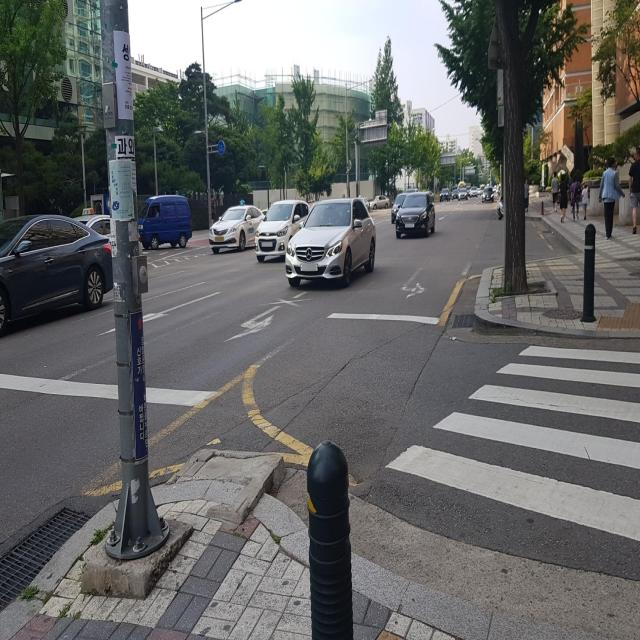횡단보도: (382, 340, 640, 546)
